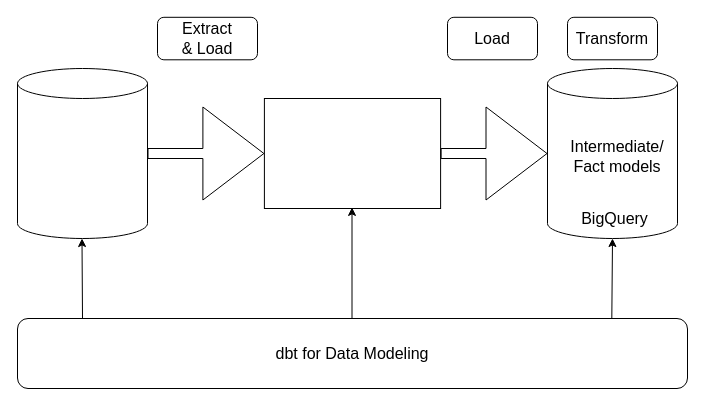
This 705x407 diagram has some shape labels left out. The shapes that lost their labels are listed below. From the top down, each one's centre as x and y in pixels, then its label:
(82,153): TheLook E-commerce Pubic Dataset
(352,153): Staging models
